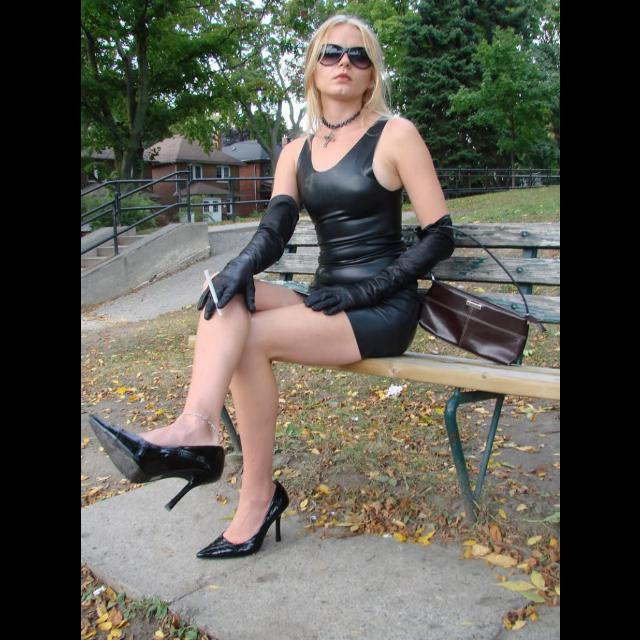rokok: (197, 265, 225, 307)
